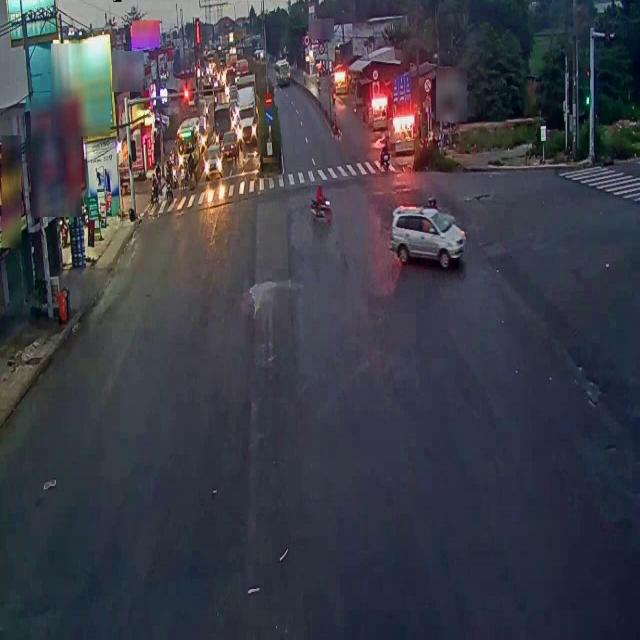car: (390, 202, 463, 276)
motorcycle: (308, 180, 334, 231)
